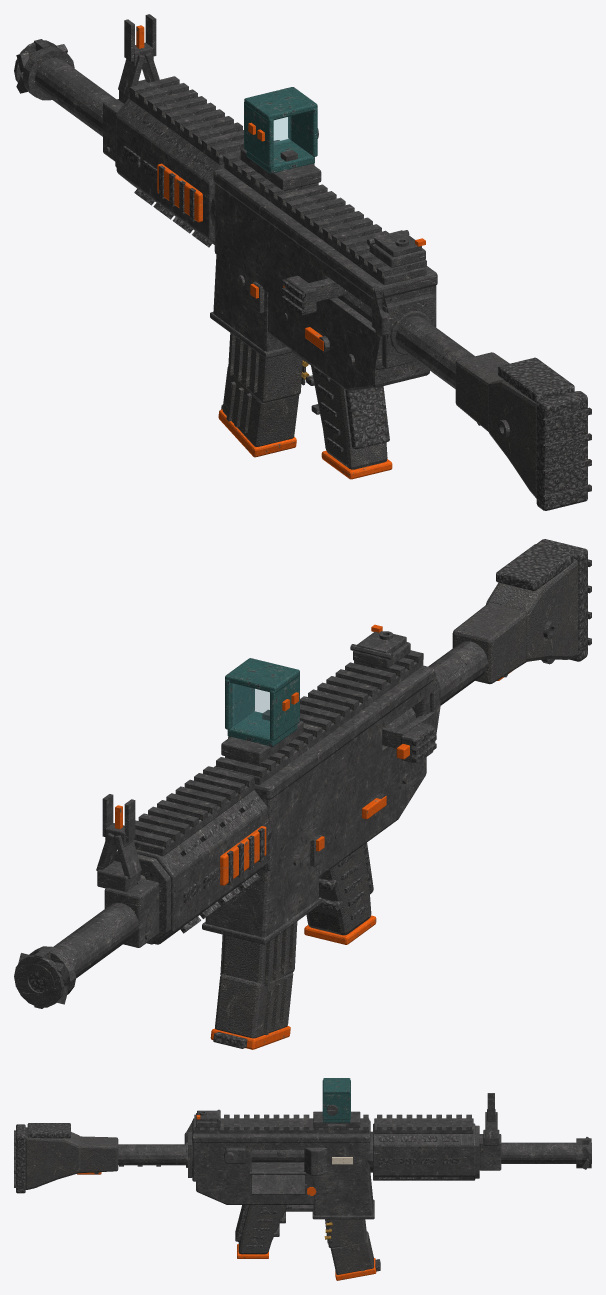
File: kestrel.glb
The picture shows the model from 3 angles, top to bottom: view 1: azimuth 30°, elevation 25°; view 2: azimuth 150°, elevation 25°; view 3: azimuth 270°, elevation 25°; orthographic projection. The views are drawn at different scales.
Parts seen in each view (by area): view 1: body | gunmetal, body | rubber, body | polymer, mag | polymer, factory-optic | petrol paint, body | orange paint, bolt | gunmetal, factory-optic | gunmetal, mag | orange paint; view 2: body | gunmetal, body | polymer, body | rubber, mag | polymer, factory-optic | petrol paint, body | orange paint, factory-optic | optic glass, factory-optic | gunmetal, bolt | gunmetal; view 3: body | gunmetal, body | polymer, body | rubber, mag | polymer, factory-optic | petrol paint, factory-optic | gunmetal, bolt | gunmetal, body | orange paint, mag | orange paint.
Boxes of the visible parts, box(x1,y1,x2,y2) form: body | gunmetal: box(14, 14, 510, 437); body | rubber: box(123, 113, 591, 510); body | polymer: box(310, 352, 536, 498); mag | polymer: box(222, 333, 302, 446); factory-optic | petrol paint: box(244, 87, 317, 173); body | orange paint: box(136, 25, 425, 479); bolt | gunmetal: box(285, 275, 371, 322); factory-optic | gunmetal: box(240, 128, 321, 190); mag | orange paint: box(218, 409, 296, 457); body | gunmetal: box(14, 621, 556, 1008); body | polymer: box(306, 559, 578, 935); body | rubber: box(28, 539, 591, 991); mag | polymer: box(215, 921, 297, 1038); factory-optic | petrol paint: box(225, 658, 299, 746); body | orange paint: box(115, 624, 511, 944); factory-optic | optic glass: box(233, 683, 269, 735); factory-optic | gunmetal: box(221, 710, 303, 764); bolt | gunmetal: box(382, 707, 432, 762); body | gunmetal: box(36, 1093, 591, 1219); body | polymer: box(25, 1127, 287, 1254); body | rubber: box(14, 1123, 458, 1247); mag | polymer: box(328, 1219, 373, 1274); factory-optic | petrol paint: box(322, 1078, 350, 1122); factory-optic | gunmetal: box(313, 1104, 360, 1133); bolt | gunmetal: box(251, 1150, 304, 1162); body | orange paint: box(77, 1115, 316, 1258); mag | orange paint: box(335, 1258, 376, 1280).
Size of the model in its own units: 0.1246 by 0.3425 by 0.931.
Materials: 8 (7 with a texture image).
